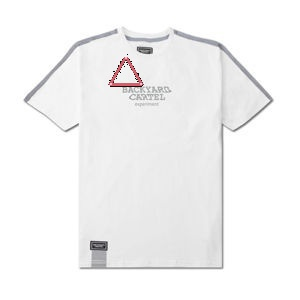triangle: (105, 55, 146, 89)
